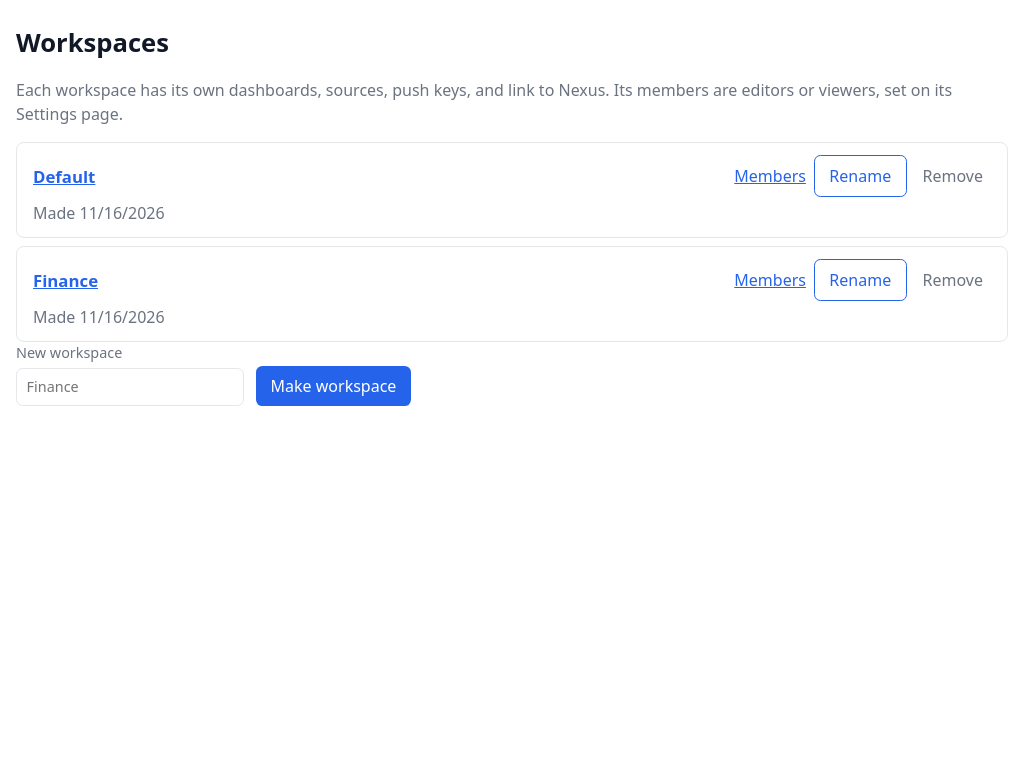
Test case: renames a workspace from its card
expect the link "Finance" is shown: met, box [33,269,98,292]
Click the button "Rename" in the row of "Finance" at x=860, y=280, box [814,259,906,301]
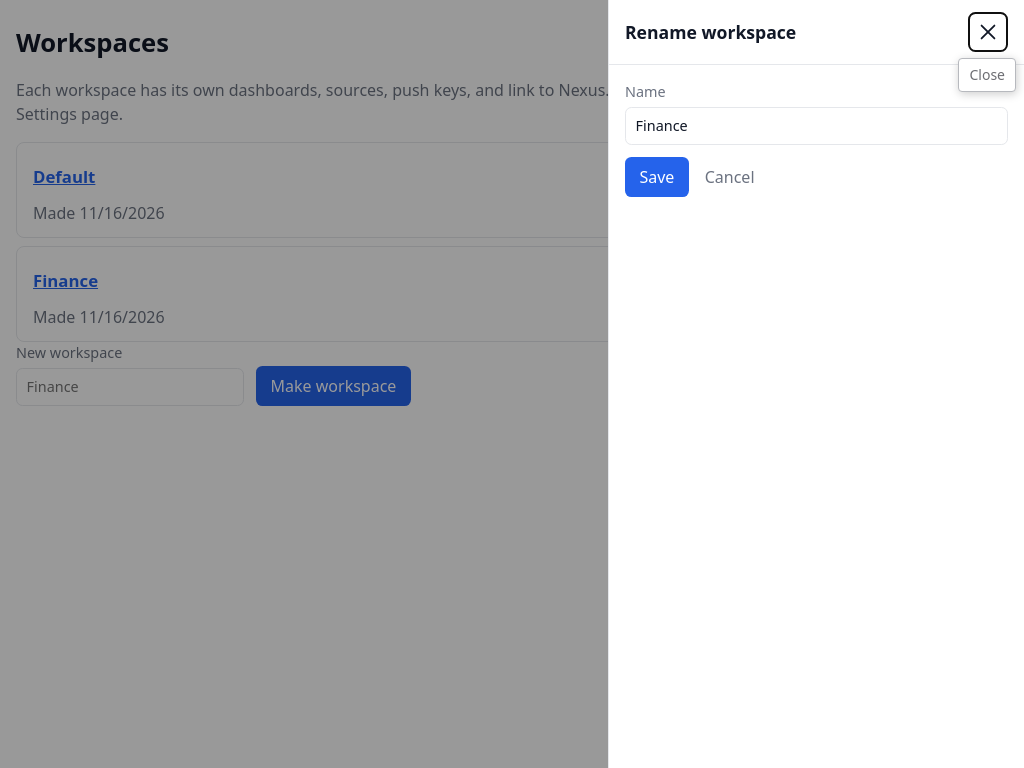
Replace the text in the field labelled "Name" with "Finance 2026" at x=816, y=126, box [625,107,1008,145]
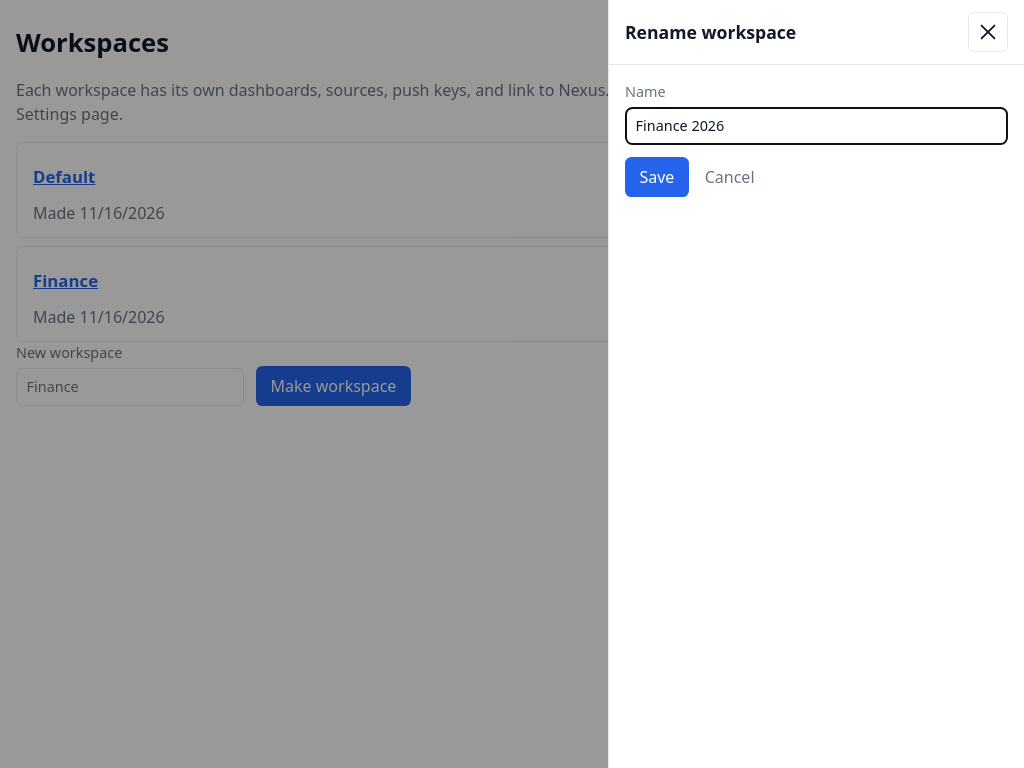
Click the button "Save" at x=657, y=177, box [625,157,689,197]
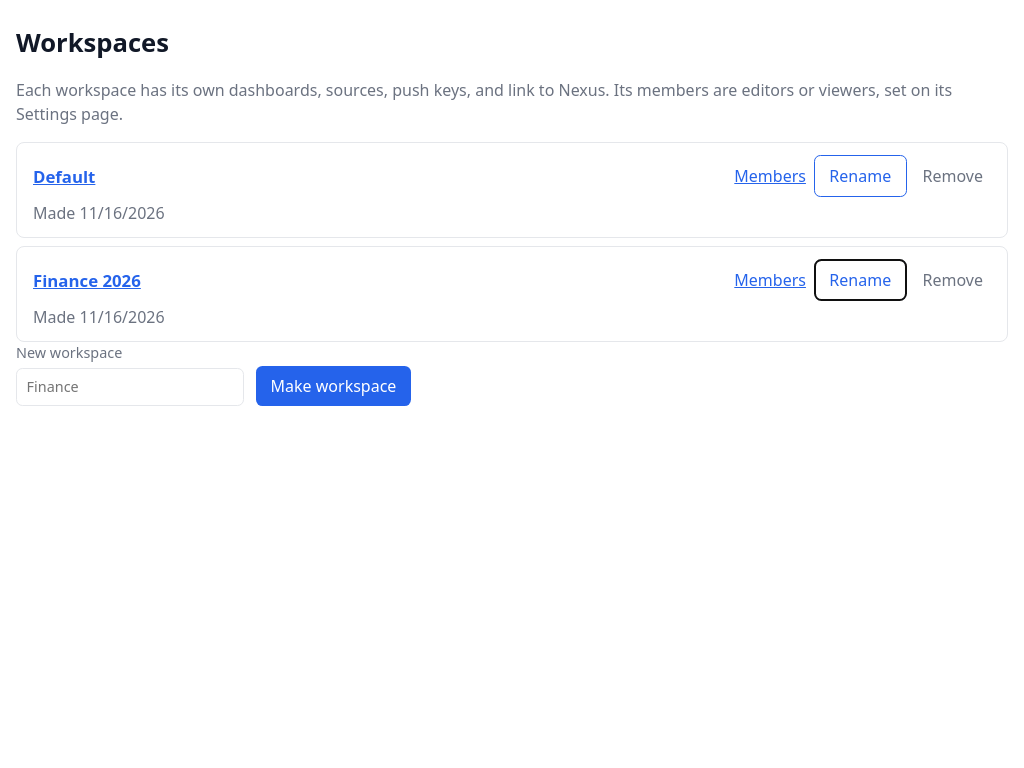
expect the link "Finance 2026" is shown: met, box [33,269,141,292]
